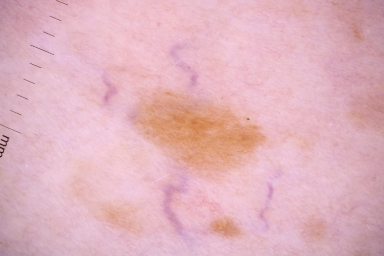melanoma: (131, 96, 267, 178)
